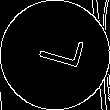L_W: (27, 33, 83, 77)
